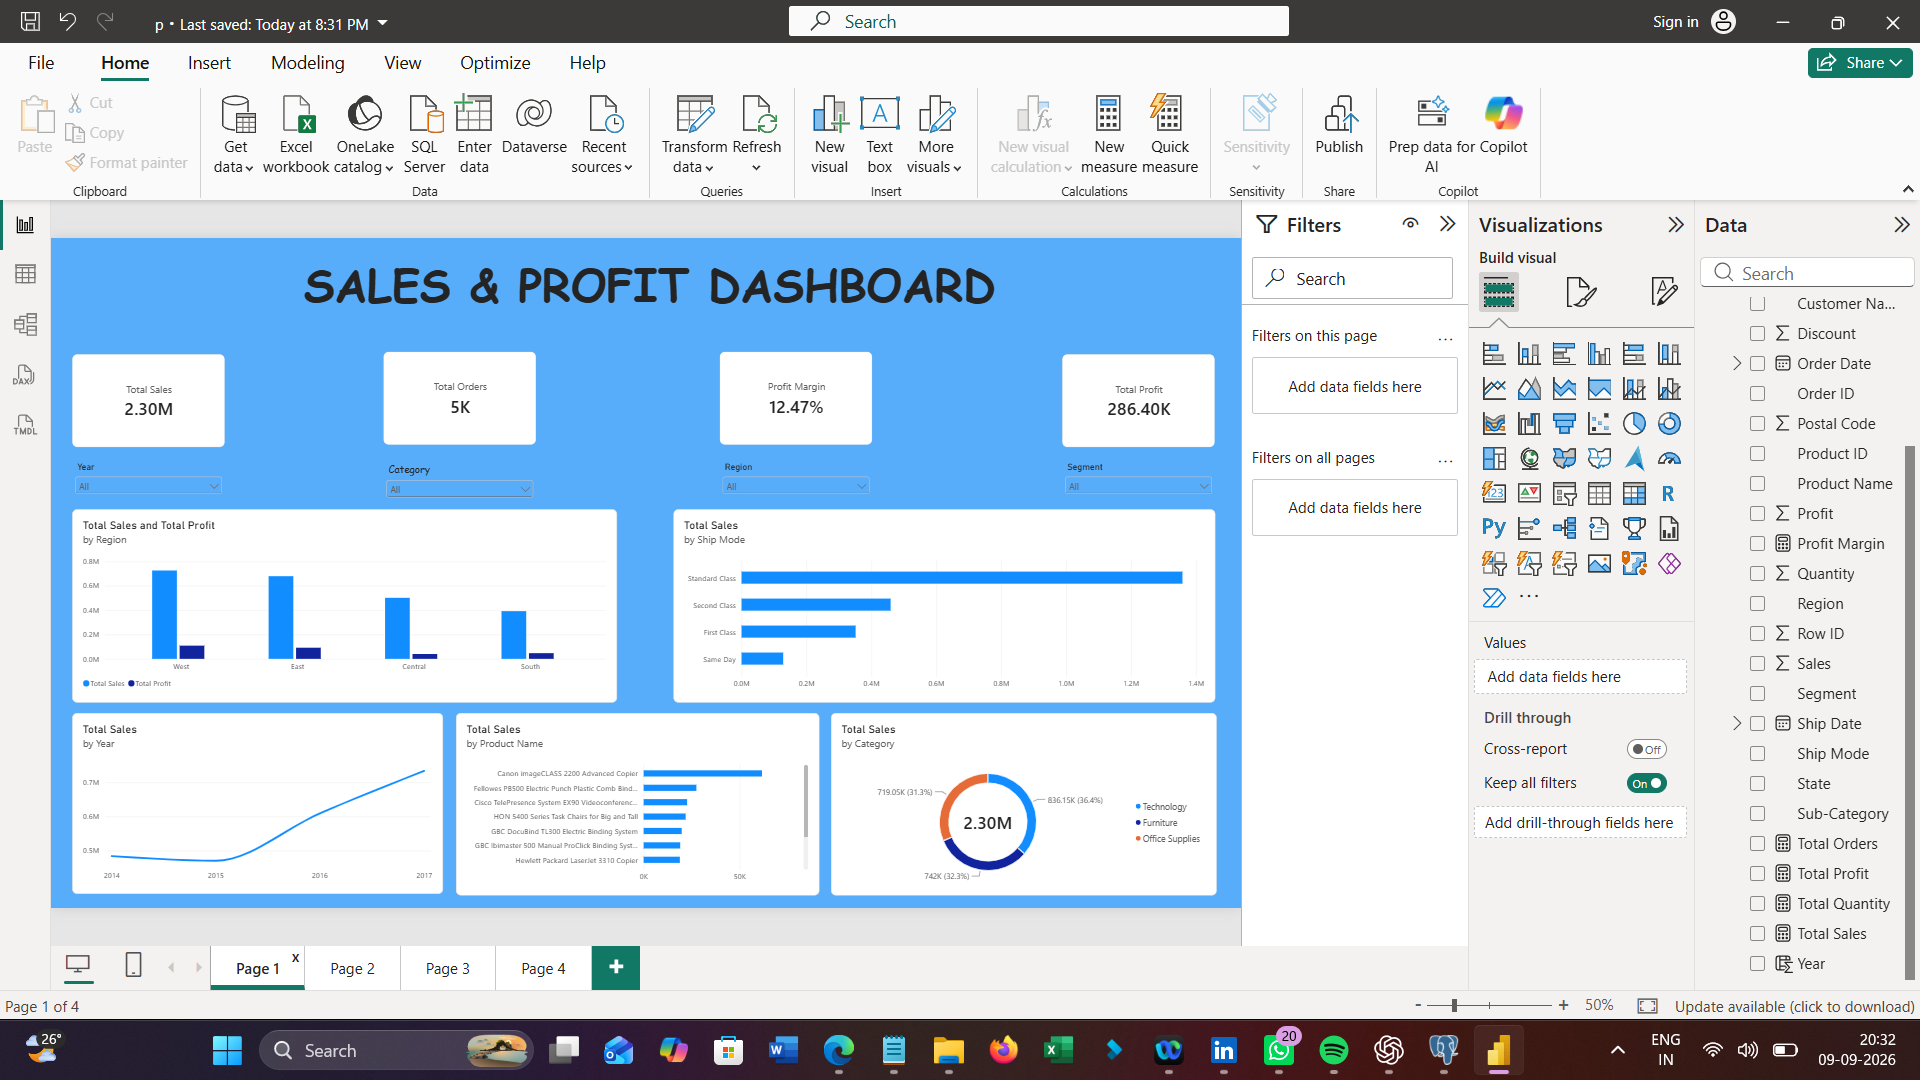

The dashboard page shown, as its layout file describes it:
{"tool":"powerbi","page":{"name":"Page 1","canvas":[1920,1080],"ordinal":0},"visuals":[{"type":"cardVisual","fields":{"Data":["superstore.Total Profit"]},"box":[1632.6,188.4,246,150],"z":1000},{"type":"cardVisual","fields":{"Data":["superstore.Total Sales"]},"box":[34.9,188.4,246,150],"z":1500},{"type":"cardVisual","fields":{"Data":["superstore.Total Orders"]},"box":[536.7,184.2,246,150],"z":2000},{"type":"cardVisual","fields":{"Data":["superstore.Profit Margin"]},"box":[1078.6,184.2,246,150],"z":3000},{"type":"textbox","box":[35,24.7,1862.8,115.3],"z":4000},{"type":"lineClusteredColumnComboChart","fields":{"Category":["superstore.Region"],"Y":["superstore.Total Sales","superstore.Total Profit"]},"box":[34.9,437.2,879.1,311.6],"z":5000},{"type":"lineChart","fields":{"Category":["superstore.Order Date.Variation.Date Hierarchy.Year","superstore.Order Date.Variation.Date Hierarchy.Quarter","superstore.Order Date.Variation.Date Hierarchy.Month","superstore.Order Date.Variation.Date Hierarchy.Day"],"Y":["superstore.Total Sales"]},"box":[34.9,767.4,598,292],"z":6000},{"type":"donutChart","fields":{"Category":["superstore.Category"],"Y":["superstore.Total Sales"]},"box":[1258.1,767.4,622,294],"z":7000},{"type":"clusteredBarChart","fields":{"Category":["superstore.Ship Mode"],"Y":["superstore.Total Sales"]},"box":[1004.7,437.2,874.4,311.6],"z":8000},{"type":"clusteredBarChart","fields":{"Category":["superstore.Product Name"],"Y":["superstore.Total Sales"]},"box":[653.5,767.4,586,294],"z":9000},{"type":"slicer","fields":{"Values":["superstore.Year"]},"box":[34.9,360.5,246.5,76.7],"z":10000},{"type":"slicer","fields":{"Values":["superstore.Region"]},"box":[1079.1,360.5,246.5,69.8],"z":11000},{"type":"slicer","fields":{"Values":["superstore.Category"]},"box":[537.2,360.5,246.5,72.1],"z":12000},{"type":"slicer","fields":{"Values":["superstore.Segment"]},"box":[1632.6,360.5,246.5,83.7],"z":13000}]}

Visuals, with their boxes on the page's 1920x1080 design canvas (x1, y1, x2, y2). These are canvas units, not pixel positions in the 1920x1080 screenshot, which may show the page scaled, cropped or inside an application window:
cardVisual - superstore.Total Profit: [left=1633, top=188, right=1879, bottom=338]
cardVisual - superstore.Total Sales: [left=35, top=188, right=281, bottom=338]
cardVisual - superstore.Total Orders: [left=537, top=184, right=783, bottom=334]
cardVisual - superstore.Profit Margin: [left=1079, top=184, right=1325, bottom=334]
textbox: [left=35, top=25, right=1898, bottom=140]
lineClusteredColumnComboChart - superstore.Region x superstore.Total Sales: [left=35, top=437, right=914, bottom=749]
lineChart - superstore.Order Date.Variation.Date Hierarchy.Year x superstore.Order Date.Variation.Date Hierarchy.Quarter: [left=35, top=767, right=633, bottom=1059]
donutChart - superstore.Category x superstore.Total Sales: [left=1258, top=767, right=1880, bottom=1061]
clusteredBarChart - superstore.Ship Mode x superstore.Total Sales: [left=1005, top=437, right=1879, bottom=749]
clusteredBarChart - superstore.Product Name x superstore.Total Sales: [left=654, top=767, right=1240, bottom=1061]
slicer - superstore.Year: [left=35, top=360, right=281, bottom=437]
slicer - superstore.Region: [left=1079, top=360, right=1326, bottom=430]
slicer - superstore.Category: [left=537, top=360, right=784, bottom=433]
slicer - superstore.Segment: [left=1633, top=360, right=1879, bottom=444]
